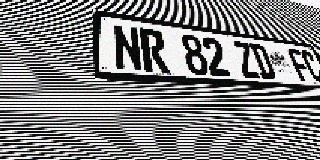2: (201, 36, 231, 77)
8: (180, 33, 210, 76)
C: (299, 50, 320, 82)
D: (248, 43, 277, 80)
F: (286, 48, 314, 82)
N: (112, 24, 144, 72)
R: (139, 28, 170, 73)
Z: (232, 41, 261, 79)
